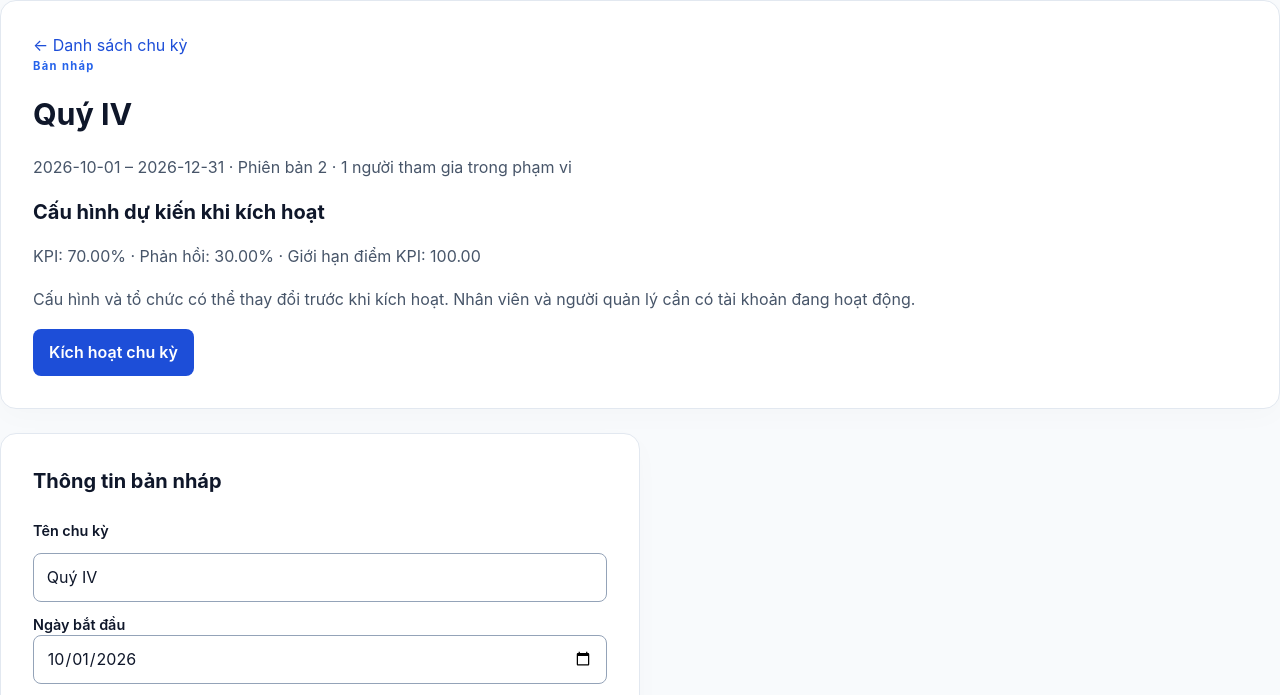
Test case: requires explicit activation confirmation and shows actionable failures
This screenshot has width=1280, height=695.
Click the button "Kích hoạt chu kỳ" at (113, 352), box [33,329,194,376]
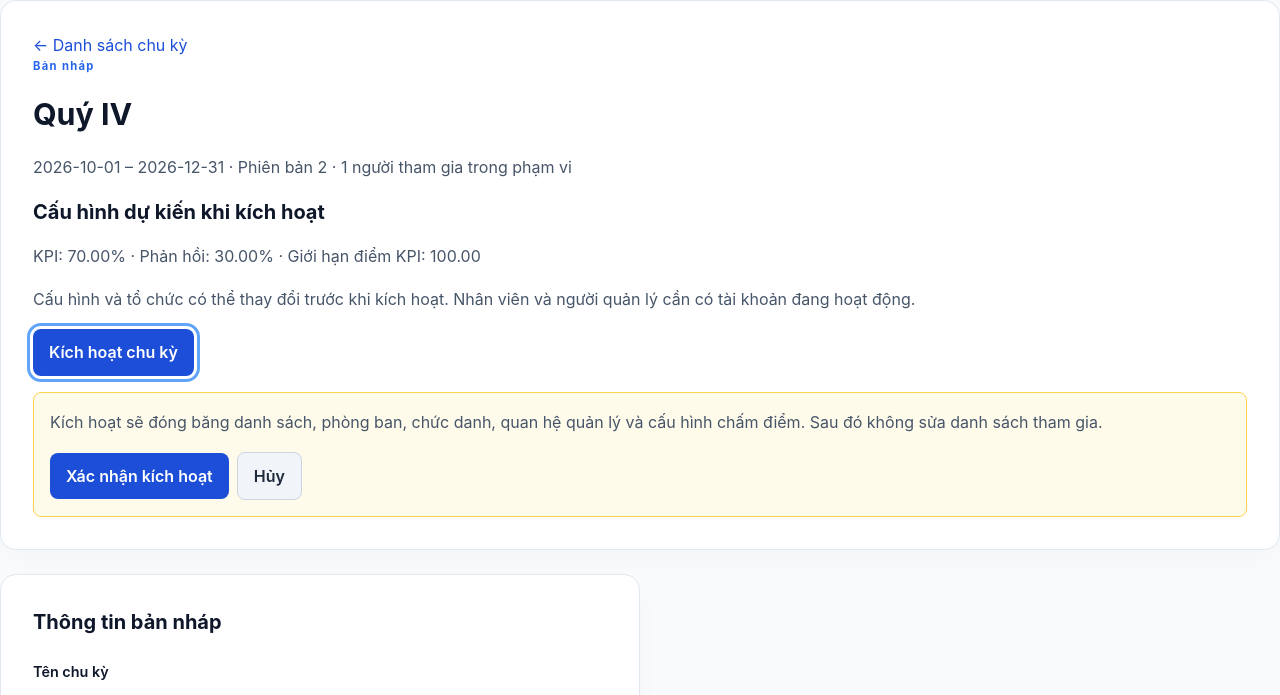
Click the button "Xác nhận kích hoạt" at (139, 476), box [50,453,229,499]
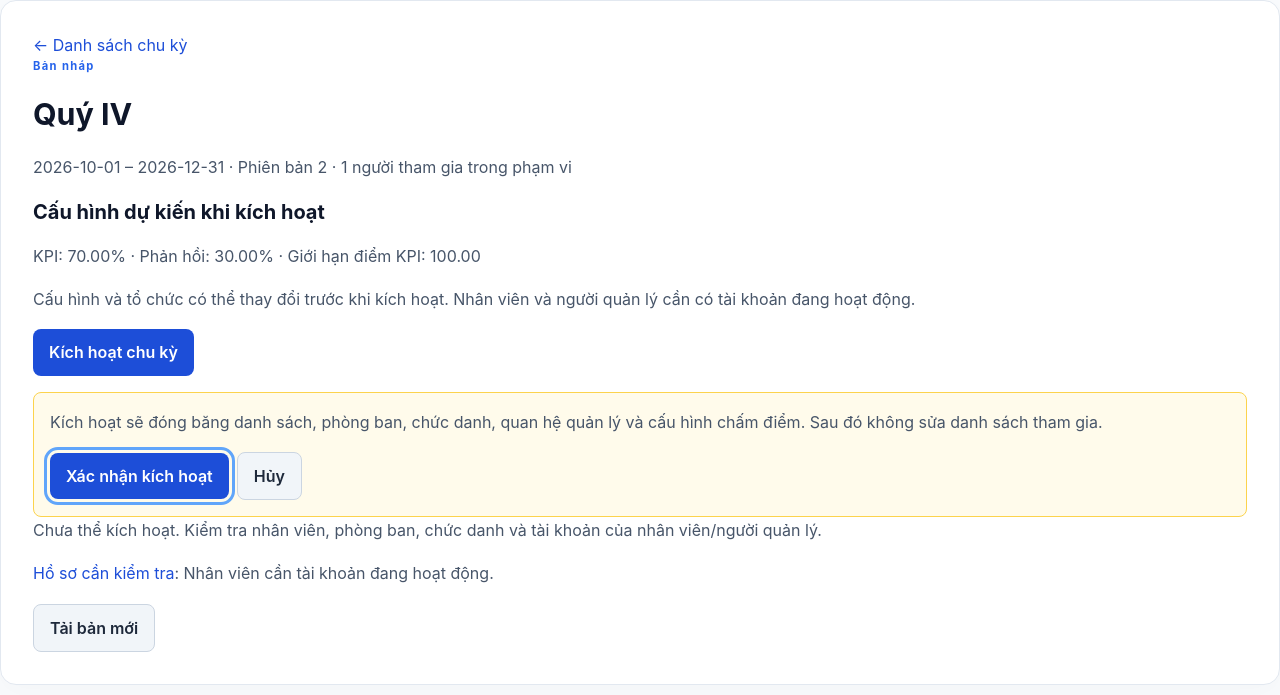
expect the text "Hồ sơ cần kiểm tra : Nhân viên cần tài khoản đang hoạt động." is shown: met, box [33,563,494,583]
